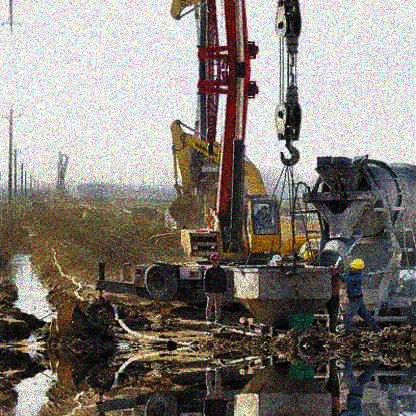helmet: (349, 258, 366, 272), (303, 250, 316, 265), (210, 253, 221, 267)
